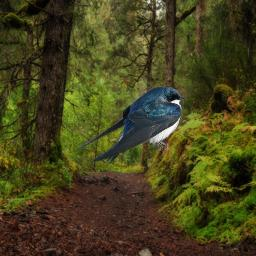Swallow: (77, 86, 184, 164)
